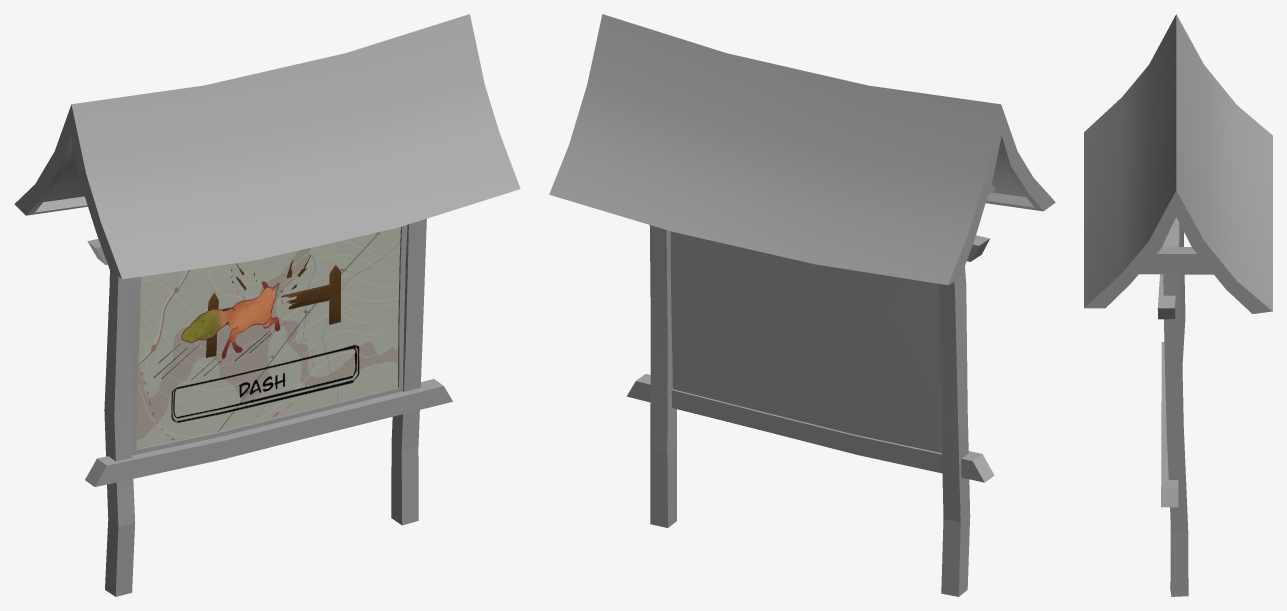
Rendered from Post_big_dash_2.fbx.
3 renders of one model, left to right at view 1: azimuth 30°, elevation 25°; view 2: azimuth 150°, elevation 25°; view 3: azimuth 270°, elevation 25°, orthographic. The views are drawn at different scales.
Parts seen in each view (by area): view 1: Post_Big; view 2: Post_Big; view 3: Post_Big.
Part boxes in pixels (<box>): Post_Big: <box>14,14,520,596</box>; Post_Big: <box>549,14,1055,596</box>; Post_Big: <box>1084,14,1272,596</box>.
Size of the model in its own units: 5.46 by 6.5 by 2.55.
Materials: 2 (1 with a texture image).
